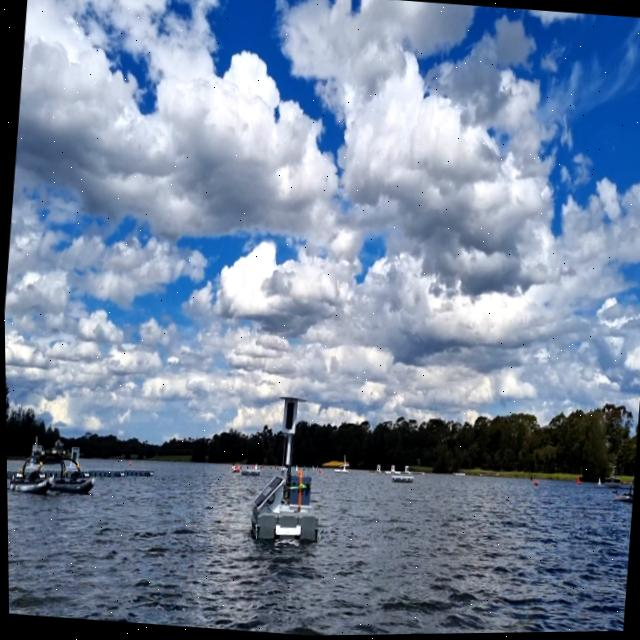led: (281, 401, 295, 434)
